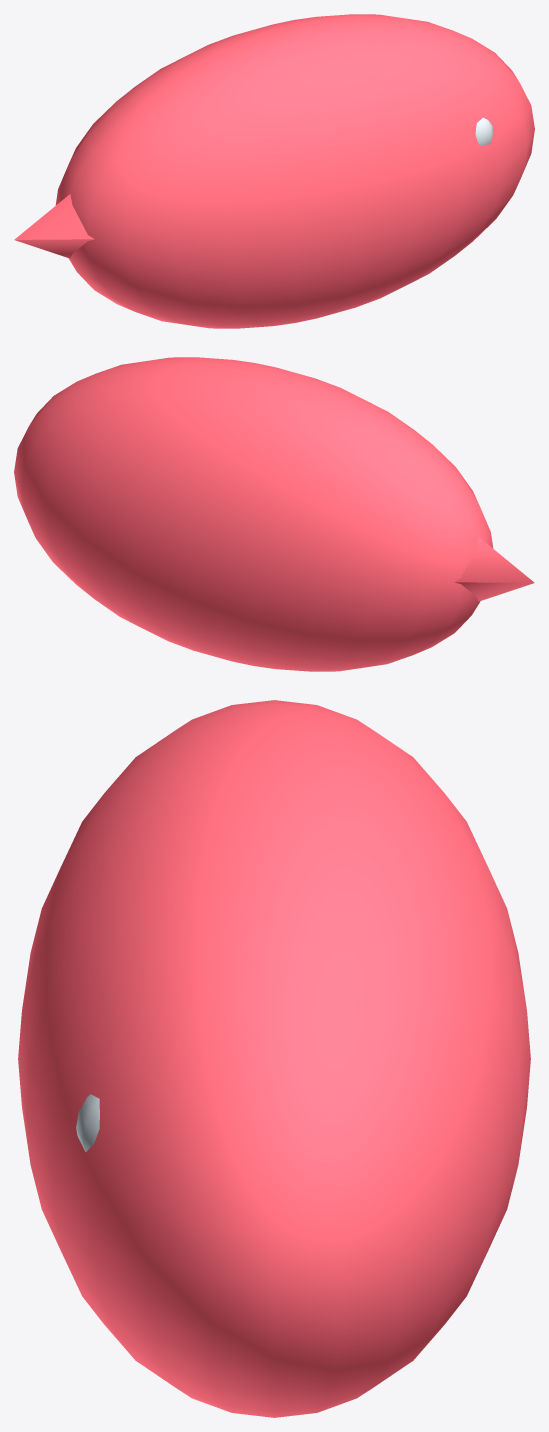
The model's file is predator-fish.glb.
3 views of the same model, one above another, from view 1: azimuth 30°, elevation 25°; view 2: azimuth 150°, elevation 25°; view 3: azimuth 270°, elevation 25° (orthographic). The views are drawn at different scales.
Parts seen in each view (by area): view 1: body, tail, eye; view 2: body, tail; view 3: body, eye.
Boxes of the visible parts, <box> form: body: <box>55,14,534,328</box>; tail: <box>14,194,94,258</box>; eye: <box>475,117,492,145</box>; body: <box>14,357,493,671</box>; tail: <box>454,537,534,601</box>; body: <box>18,700,530,1417</box>; eye: <box>76,1094,99,1152</box>.
Size of the model in its own units: 3.07 by 1.6 by 1.33.
